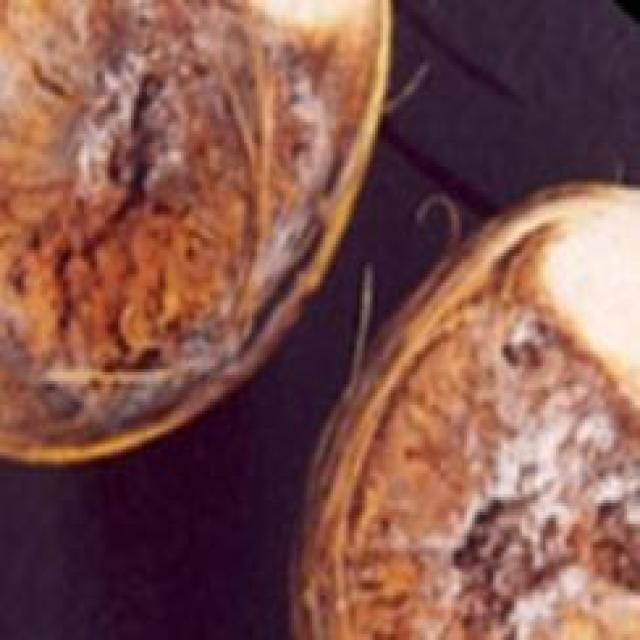damaged: (291, 182, 637, 637)
